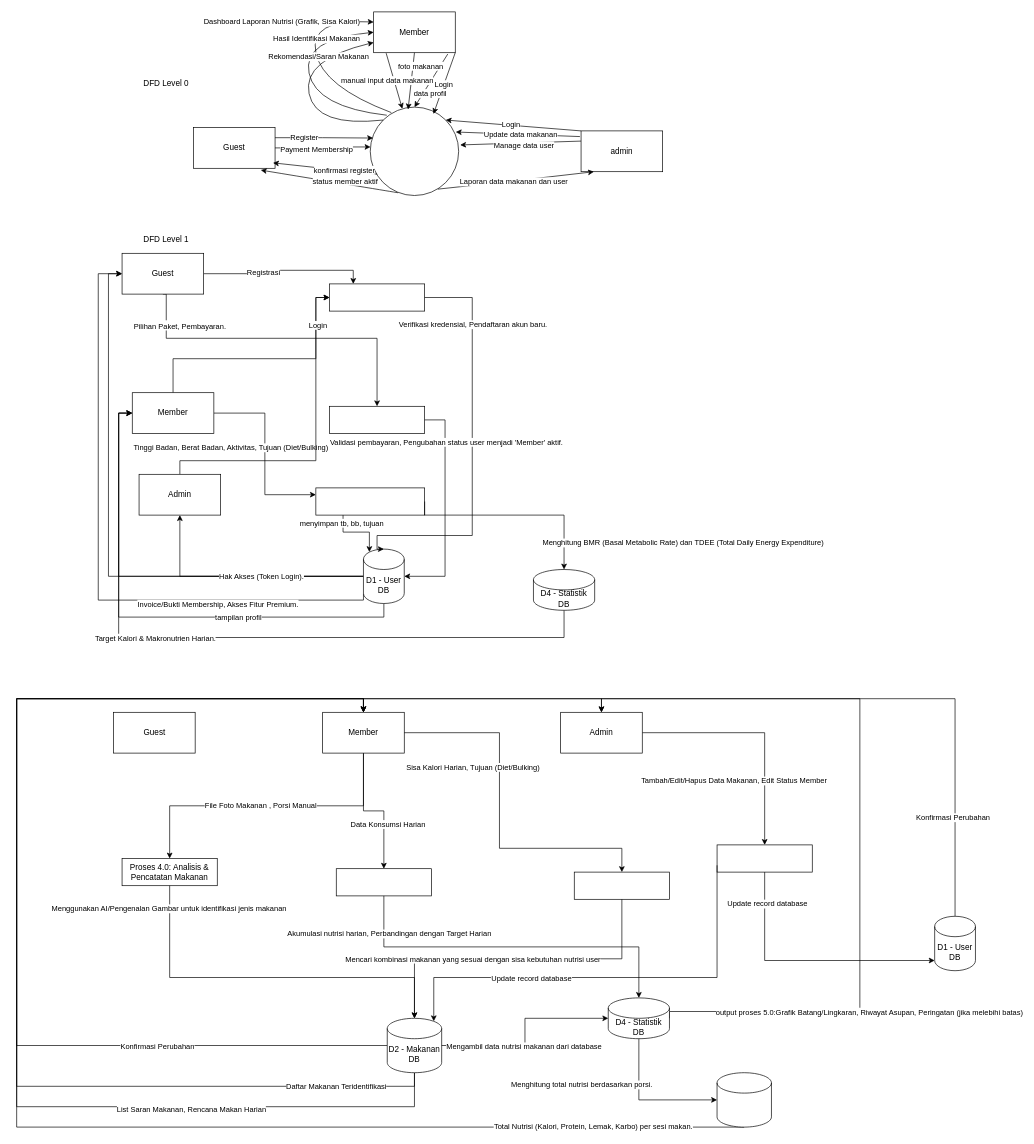
Some shapes in this 1034 by 1144 pixel diagram are drawn without their labels. The shapes that lost their labels are listed below. From the top down, each one's centre as x and y in pixels, then its label:
(414,151): Sistem
(377,297): Proses 1.0: Otentikasi & Registrasi
(377,420): Proses 2.0: manajemen membership
(370,501): Proses 3.0: Manajemen Profil & Tujuan
(764,858): Proses 7.0: Manajemen Data Admin
(383,882): Proses 5.0: Pelaporan & Statistik
(621,885): Proses 6.0: Rekomendasi & Rencana Diet
(743,1099): D3 - Konsumsi DB
